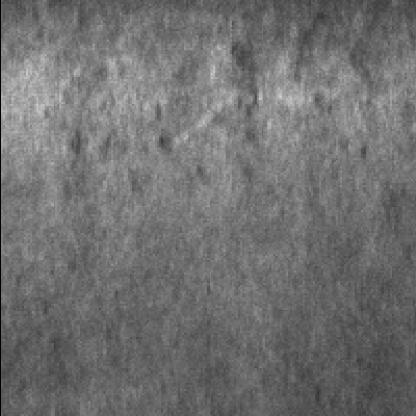rolled-in_scale: (62, 61, 254, 171)
